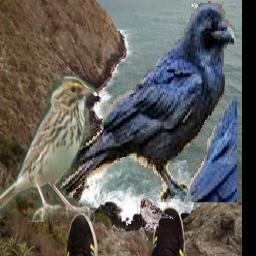Crow: (55, 2, 236, 203)
Sparrow: (0, 75, 94, 223), (140, 198, 174, 231)
